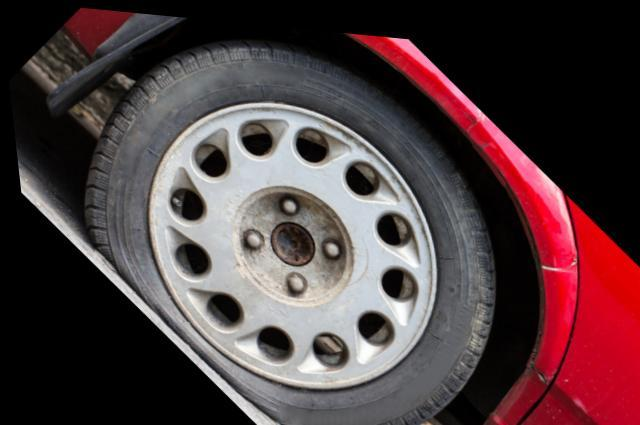tire flat: (81, 31, 495, 425)
